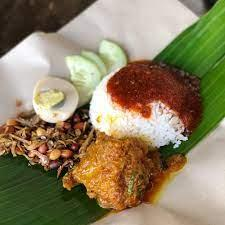Anchovies: (0, 111, 73, 170)
Boiled-Egg: (33, 77, 79, 123)
Cucumber: (65, 40, 127, 107)
Peanuts: (36, 143, 68, 161), (70, 115, 83, 154)
Rendang-Chicken: (62, 134, 150, 211)
Rice: (89, 67, 188, 148)
Sambal: (106, 61, 202, 133)
